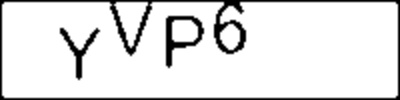6: (211, 1, 249, 57)
P: (160, 13, 205, 70)
V: (107, 1, 153, 58)
Y: (58, 24, 103, 82)
